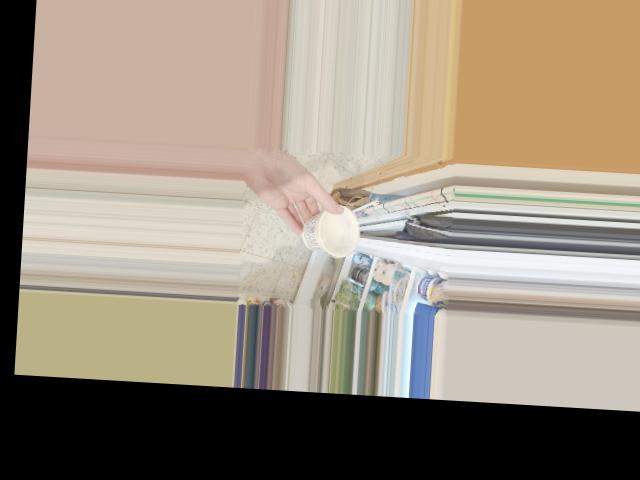cotage: (301, 208, 358, 257)
